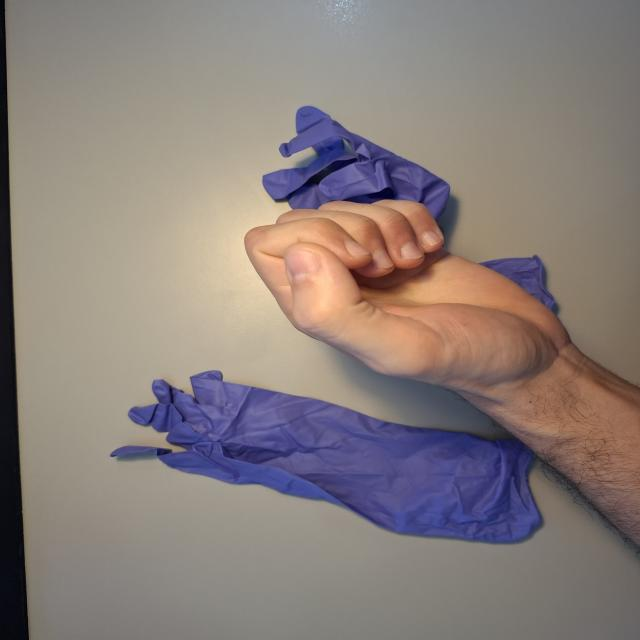glove_off: (240, 198, 583, 398)
